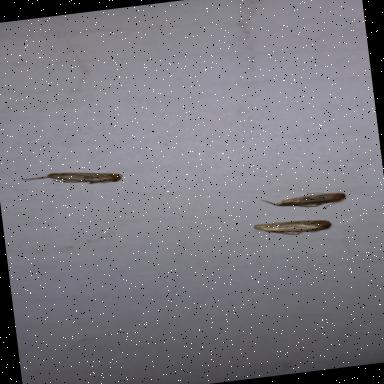pbw: (246, 213, 334, 242), (33, 164, 126, 190), (273, 187, 349, 214)
